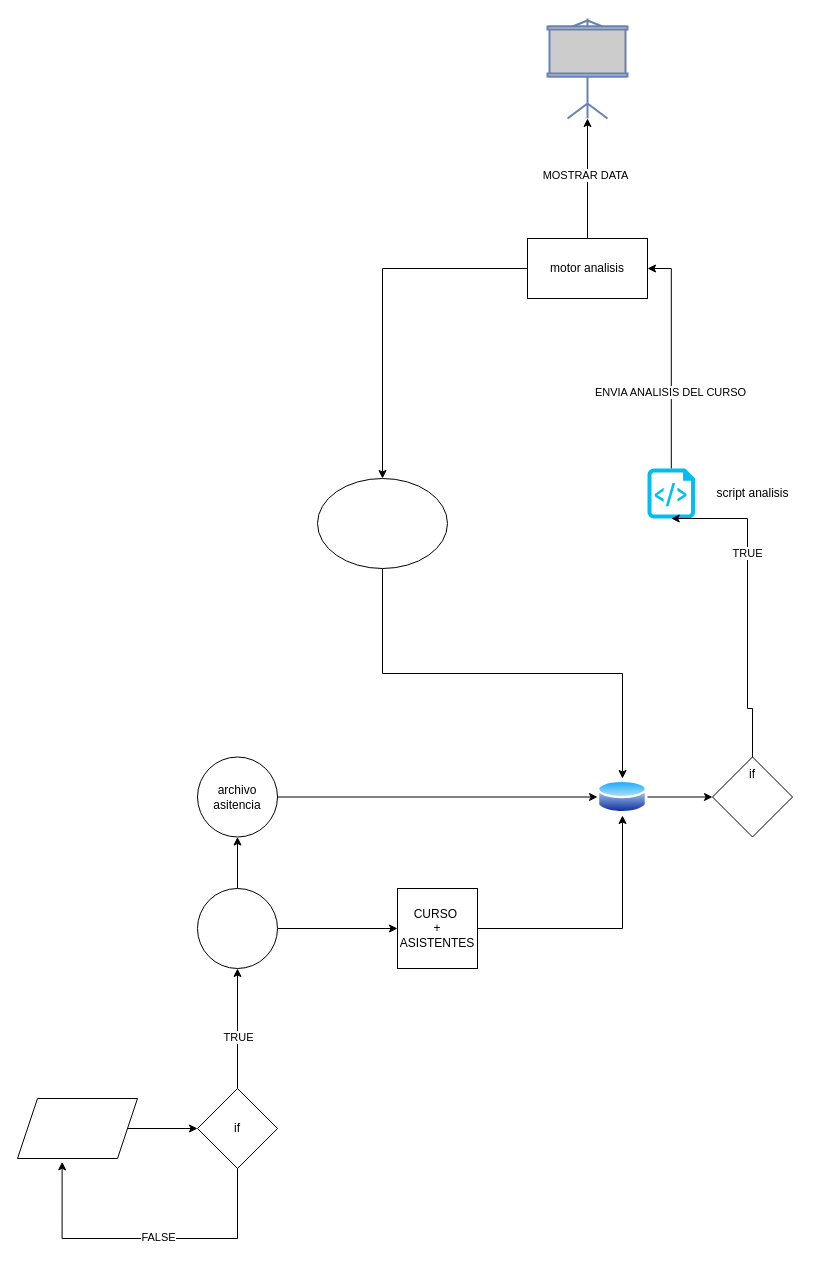
This 820x1264 diagram has some shape labels left out. The centre of each missing label's shape, as x and y in pixels:
home: [237,928]
LOGUEO: [77,1128]
SELECCIIONE CURSO: [382,523]
